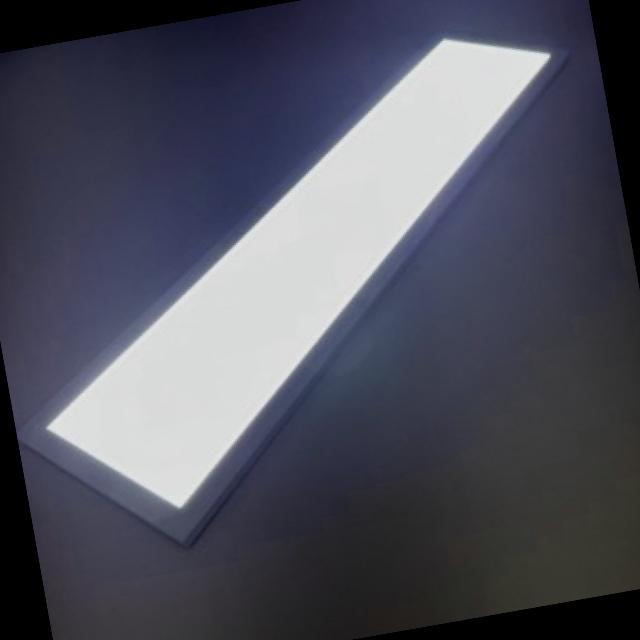light: (16, 33, 564, 547)
